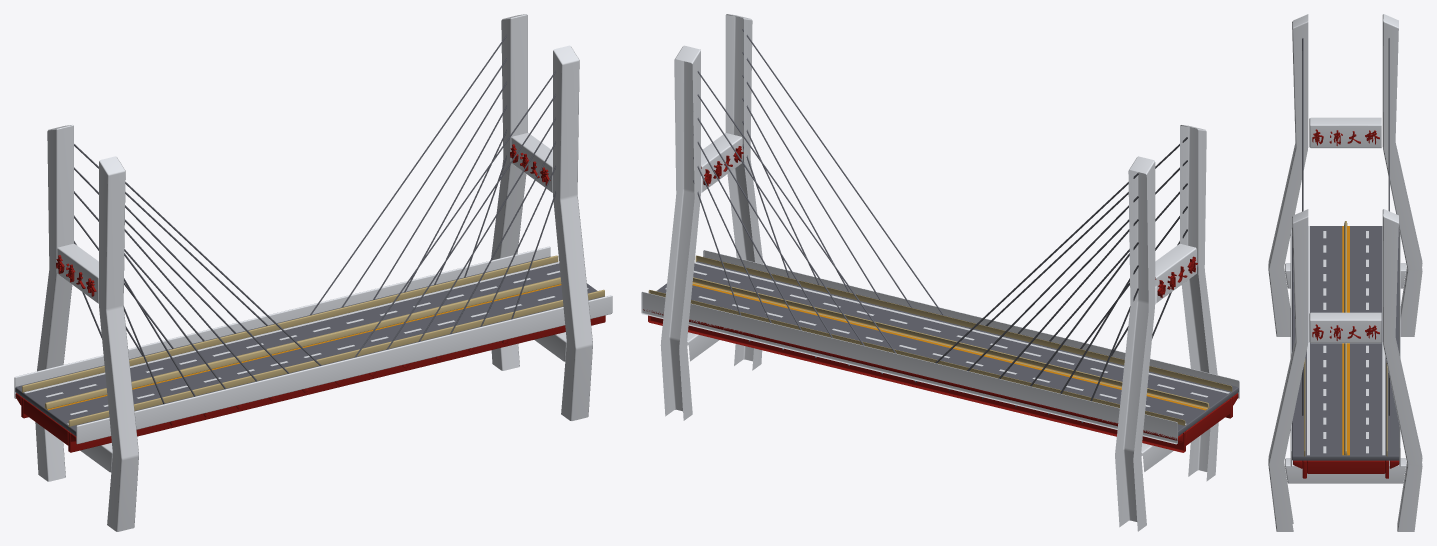
The model's file is NanPuDaQiao.fbx.
3 views of the same model, side by side, from view 1: azimuth 30°, elevation 25°; view 2: azimuth 150°, elevation 25°; view 3: azimuth 270°, elevation 25° (orthographic). The views are drawn at different scales.
Parts seen in each view (by area): view 1: Napudaqiao; view 2: Napudaqiao; view 3: Napudaqiao.
Part boxes in pixels (left/top/right/bottom): Napudaqiao: left=14, top=14, right=612, bottom=531; Napudaqiao: left=641, top=14, right=1239, bottom=531; Napudaqiao: left=1268, top=14, right=1422, bottom=531.
Size of the model in its own units: 259 by 166 by 73.21.
Materials: 1 (1 with a texture image).
